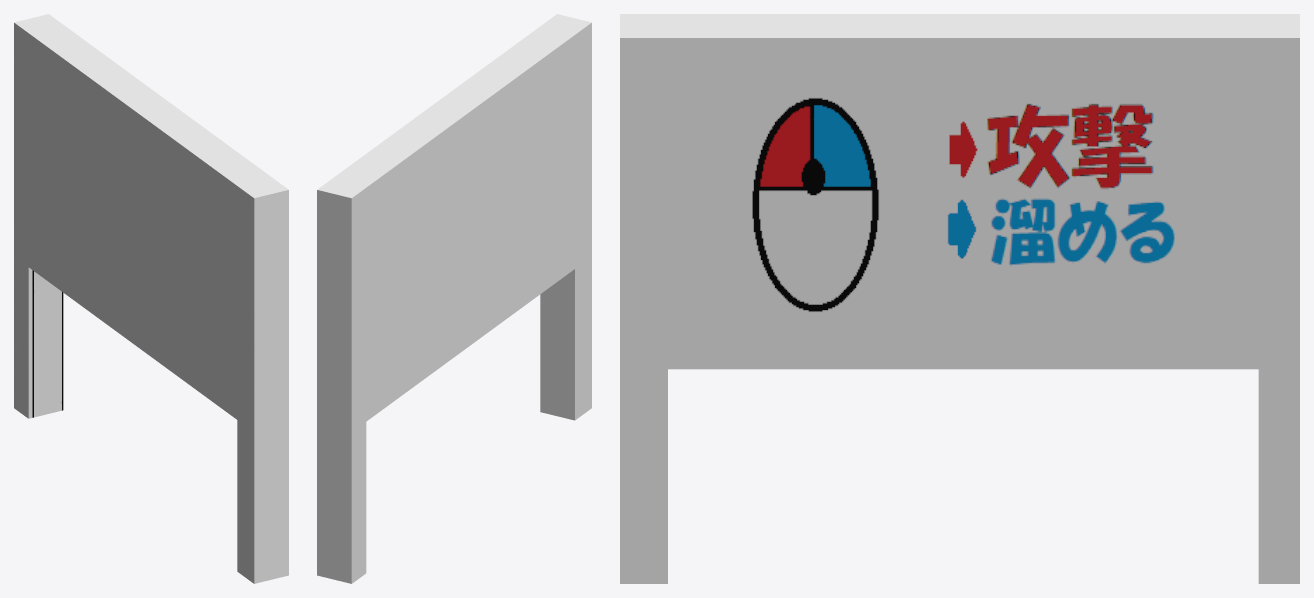
The model's file is Atack.gltf.
3 views of the same model, side by side, from view 1: azimuth 30°, elevation 25°; view 2: azimuth 150°, elevation 25°; view 3: azimuth 270°, elevation 25° (orthographic). The views are drawn at different scales.
Visible parts, largest first — view 1: Cube; view 2: Cube; view 3: Cube.
Part boxes in pixels (x1,y1,x2,y2): Cube: [14, 14, 288, 583]; Cube: [317, 14, 591, 583]; Cube: [620, 14, 1299, 583].
Bounding box in the file's own units: 0.3113 × 3.3 × 3.72.
Materials: 1 (1 with a texture image).
